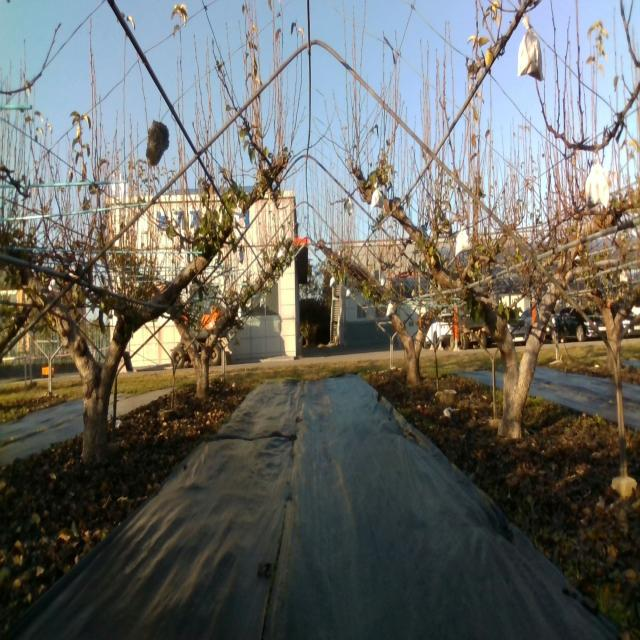pearbags: (517, 16, 544, 81), (584, 162, 610, 210), (455, 226, 473, 256), (371, 183, 384, 211), (233, 203, 246, 229)
